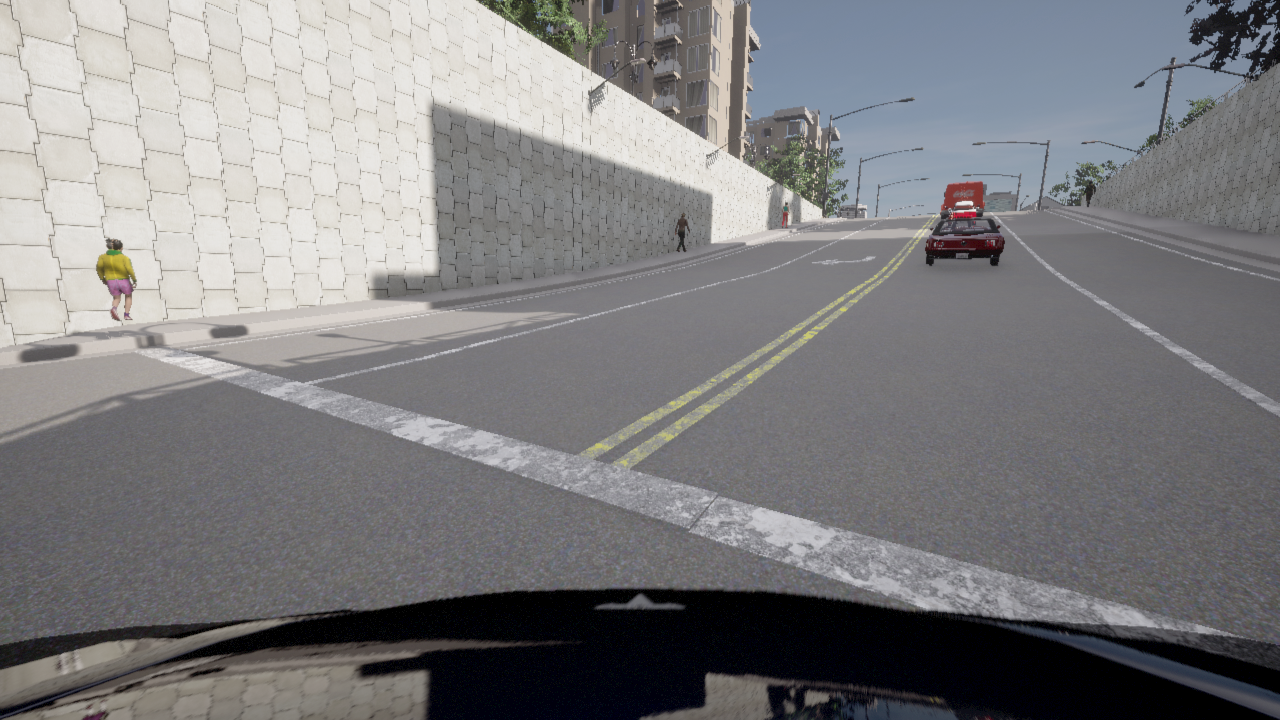cyclist: (0, 588, 1279, 719), (925, 218, 1004, 264), (940, 181, 984, 219), (948, 201, 978, 218)
pedestrian: (95, 238, 136, 320), (675, 213, 689, 252), (1083, 181, 1095, 206), (782, 202, 788, 227)
